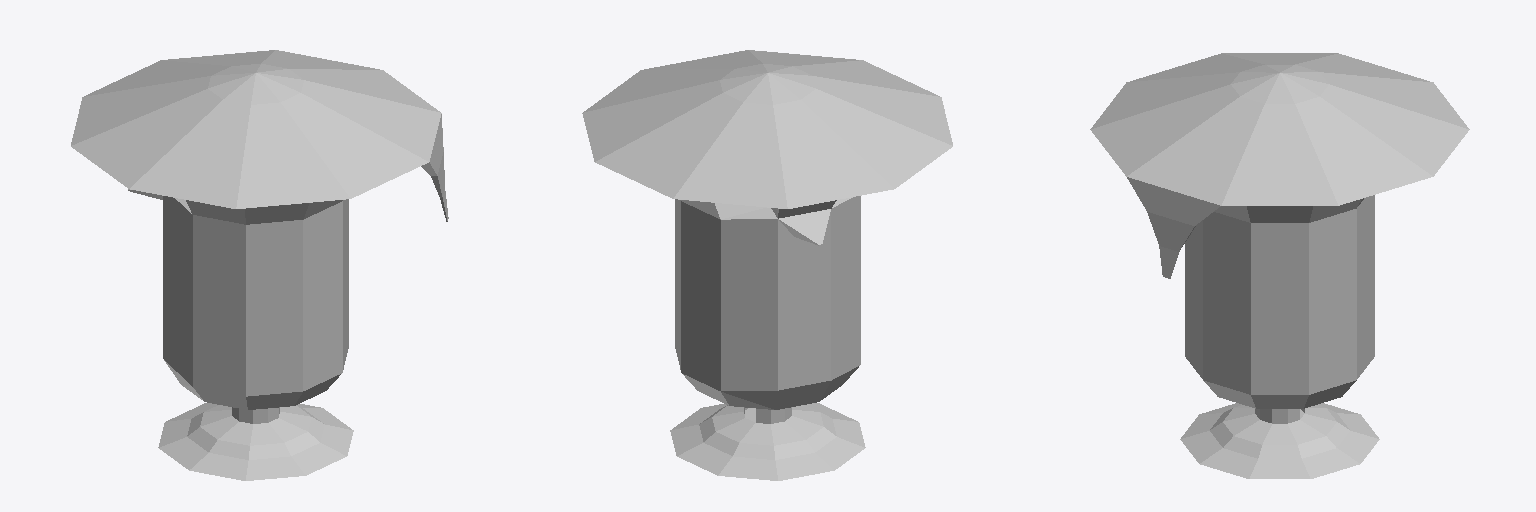
The model's file is totem2.obj.
The picture shows the model from 3 angles: view 1: azimuth 30°, elevation 25°; view 2: azimuth 150°, elevation 25°; view 3: azimuth 270°, elevation 25°; orthographic projection.
Visible parts, largest first — view 1: Cylinder; view 2: Cylinder; view 3: Cylinder.
Part boxes in pixels (bbox=[...]): Cylinder: bbox=[71, 50, 448, 480]; Cylinder: bbox=[582, 50, 952, 480]; Cylinder: bbox=[1090, 53, 1469, 478].
Bounding box in the file's own units: 3.81 × 4.27 × 4.